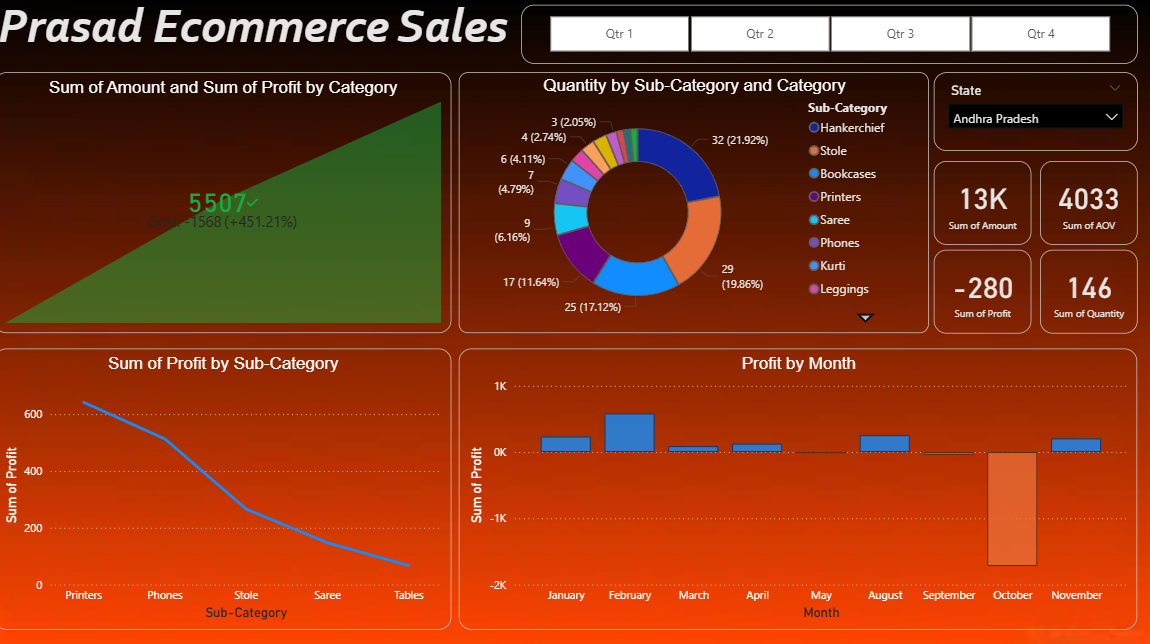

The page's visual inventory and layout, read from the dashboard file:
{"tool":"powerbi","page":{"name":"Page 3","canvas":[1280,720],"ordinal":2},"visuals":[{"type":"textbox","title":"Prasad Ecommerce Sales","box":[9.6,0,587.3,56.3],"z":0},{"type":"kpi","fields":{"Indicator":["Details.Amount"],"TrendLine":["Details.Category"],"Goal":["Details.Profit"]},"box":[9.6,83.7,502.2,286.8],"z":1000},{"type":"lineChart","fields":{"Category":["Details.Sub-Category"],"Y":["Details.Profit"]},"box":[9.6,387,502.2,308.7],"z":2000},{"type":"clusteredColumnChart","title":"Profit by Month","fields":{"Category":["Orders.Order Date.Variation.Date Hierarchy.Month"],"Y":["Details.Profit"]},"box":[520.1,387,745.1,308.7],"z":3000},{"type":"slicer","fields":{"Values":["Orders.Order Date.Variation.Date Hierarchy.Quarter"]},"box":[588.7,9.6,676.5,64.5],"z":4000},{"type":"slicer","fields":{"Values":["Orders.State"]},"box":[1041.5,83.7,223.7,86.4],"z":5000},{"type":"donutChart","title":" Quantity by Sub-Category and Category","fields":{"Category":["Details.Sub-Category"],"Series":["Details.Category"],"Y":["Details.Quantity"]},"box":[520.1,83.7,516,286.8],"z":6000},{"type":"card","fields":{"Values":["Details.Amount"]},"box":[1041.5,181.1,107,91.9],"z":6001},{"type":"card","fields":{"Values":["Details.AOV"]},"box":[1158.2,181.1,107,91.9],"z":6002},{"type":"card","fields":{"Values":["Details.Quantity"]},"box":[1158.2,278.6,107,91.9],"z":6003},{"type":"card","fields":{"Values":["Details.Profit"]},"box":[1041.5,278.6,107,91.9],"z":6004}]}

Visuals, with their boxes in screenshot pixels (x1, y1, x2, y2), scaled from the page's 1280x720 canvas onto the 1150x644 screenshot:
"Prasad Ecommerce Sales" textbox: rect(9, 0, 536, 50)
kpi - Details.Amount x Details.Category: rect(9, 75, 460, 331)
lineChart - Details.Sub-Category x Details.Profit: rect(9, 346, 460, 622)
"Profit by Month" clusteredColumnChart: rect(467, 346, 1137, 622)
slicer - Orders.Order Date.Variation.Date Hierarchy.Quarter: rect(529, 9, 1137, 66)
slicer - Orders.State: rect(936, 75, 1137, 152)
" Quantity by Sub-Category and Category" donutChart: rect(467, 75, 931, 331)
card - Details.Amount: rect(936, 162, 1032, 244)
card - Details.AOV: rect(1041, 162, 1137, 244)
card - Details.Quantity: rect(1041, 249, 1137, 331)
card - Details.Profit: rect(936, 249, 1032, 331)
